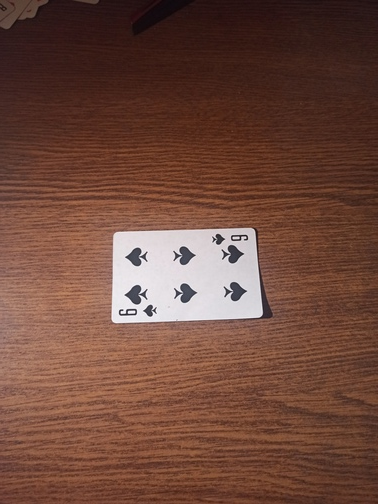sixspades: (110, 226, 266, 324)
